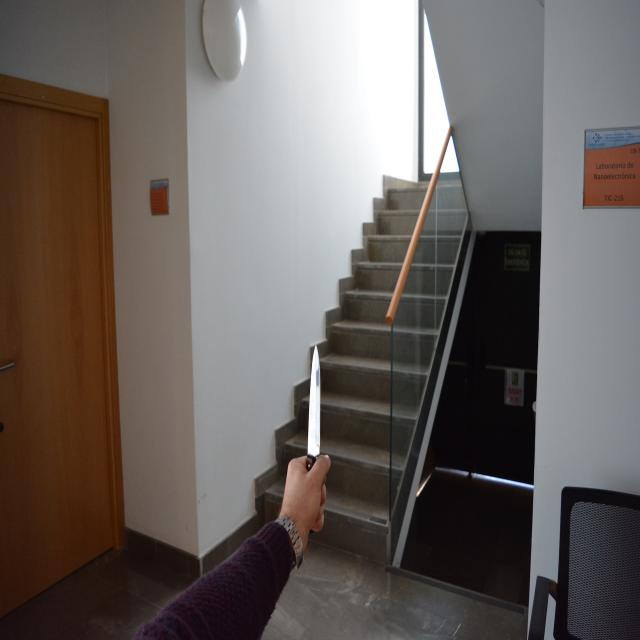knife: (303, 339, 328, 471)
